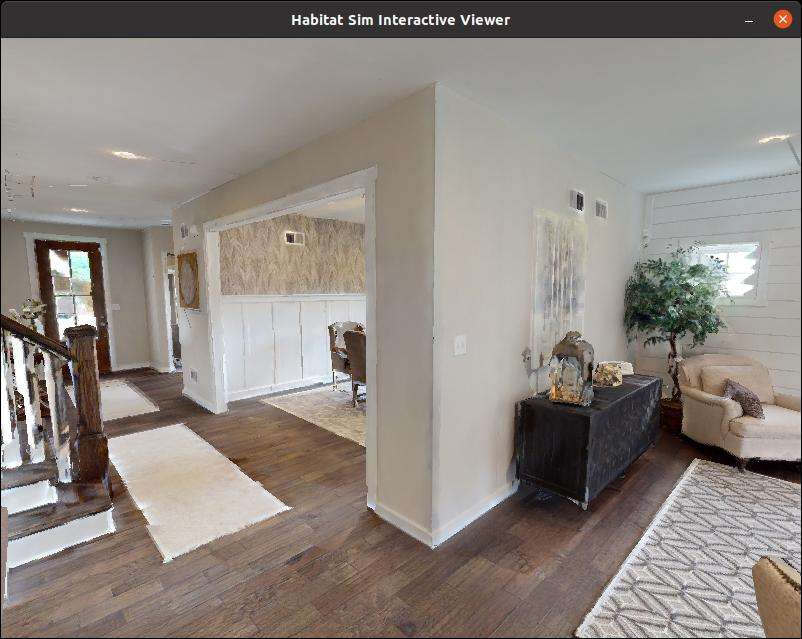door-frame: (198, 155, 389, 515)
sofa: (659, 339, 802, 480)
stairs: (0, 273, 141, 575)
